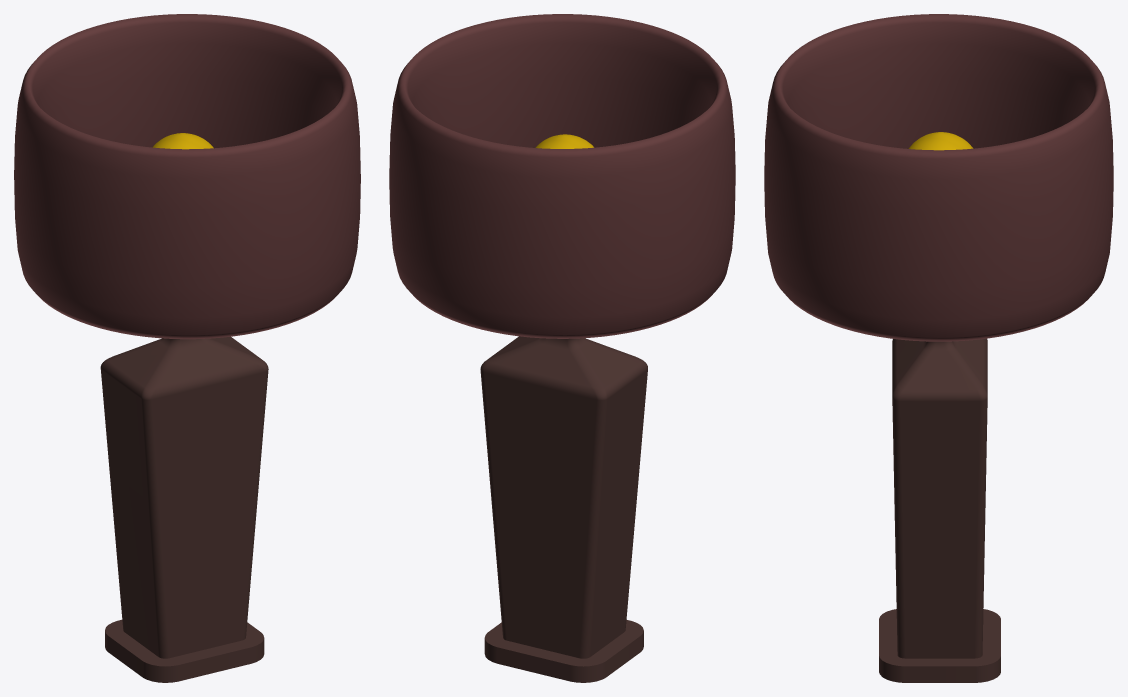
The model's file is LampeSalon2_2.fbx.
The picture shows the model from 3 angles, left to right: view 1: azimuth 30°, elevation 25°; view 2: azimuth 150°, elevation 25°; view 3: azimuth 270°, elevation 25°; orthographic projection.
Visible parts, largest first — view 1: pPipe117, pCube2060, pCylinder776; view 2: pPipe117, pCube2060, pCylinder776; view 3: pPipe117, pCube2060, pCylinder776.
Boxes of the visible parts, box(x1,y1,x2,y2) form: pPipe117: box(14, 14, 360, 339); pCube2060: box(100, 336, 268, 682); pCylinder776: box(152, 133, 213, 149); pPipe117: box(389, 14, 735, 338); pCube2060: box(480, 336, 647, 682); pCylinder776: box(535, 134, 593, 148); pPipe117: box(764, 14, 1113, 341); pCube2060: box(879, 338, 1000, 682); pCylinder776: box(908, 132, 973, 150).
Bounding box in the file's own units: 31.01 × 56.08 × 31.01.
